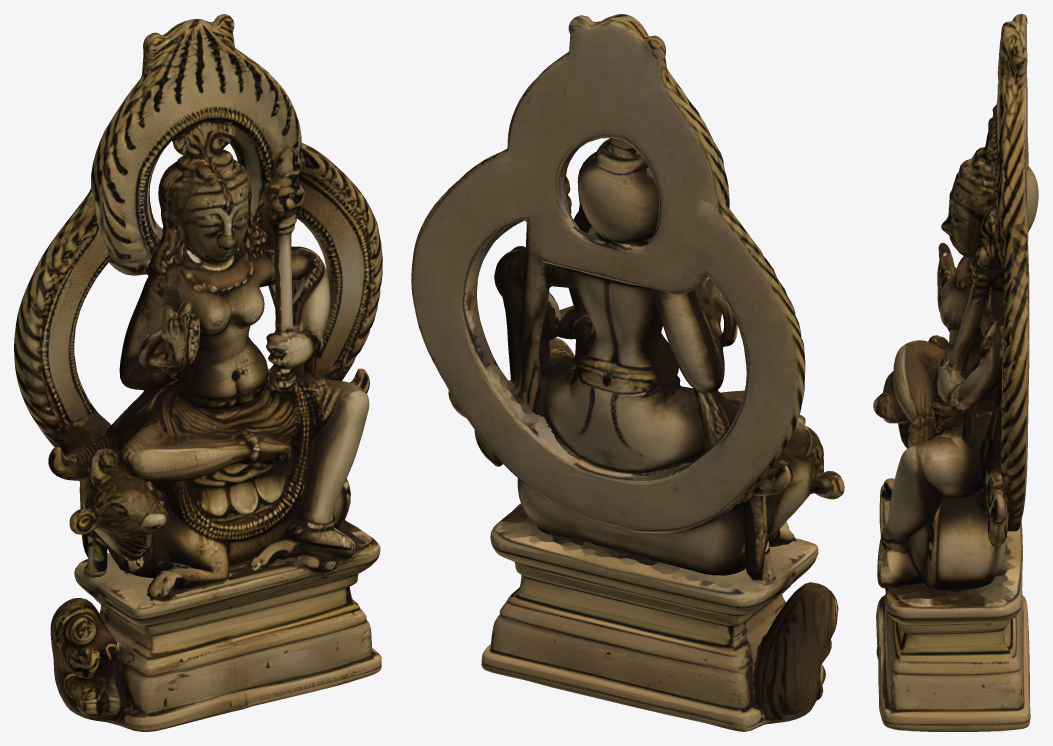
The picture shows the model from 3 angles, left to right: view 1: azimuth 30°, elevation 25°; view 2: azimuth 150°, elevation 25°; view 3: azimuth 270°, elevation 25°; orthographic projection. The views are drawn at different scales.
Parts seen in each view (by area): view 1: textured_mesh; view 2: textured_mesh; view 3: textured_mesh.
Boxes of the visible parts, box(x1,y1,x2,y2) form: textured_mesh: box(14, 14, 382, 731); textured_mesh: box(411, 14, 844, 731); textured_mesh: box(873, 14, 1038, 731).
Bounding box in the file's own units: 1.19 × 1.99 × 0.4616.
Materials: 1 (1 with a texture image).
